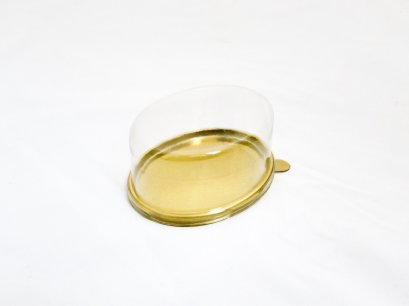PlasticBox: (121, 81, 292, 229)
